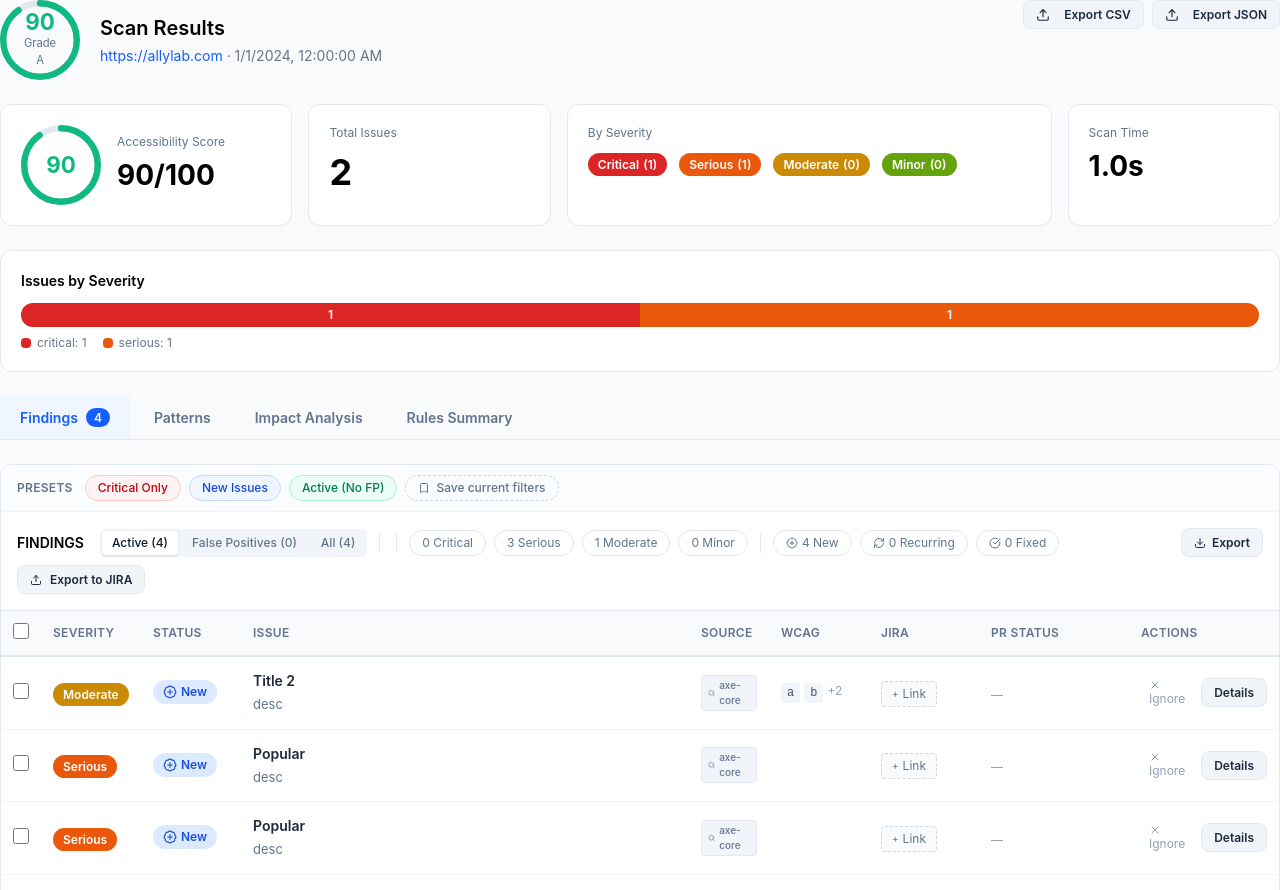
Test case: components/scan/ScanResults › renders rules summary rows with tag overflow
This screenshot has width=1280, height=890.
What coordinates should you click on to do the following:
click the button "Rules Summary"
I would click on:
 (460, 418)
Its box is [387,396,532,439].
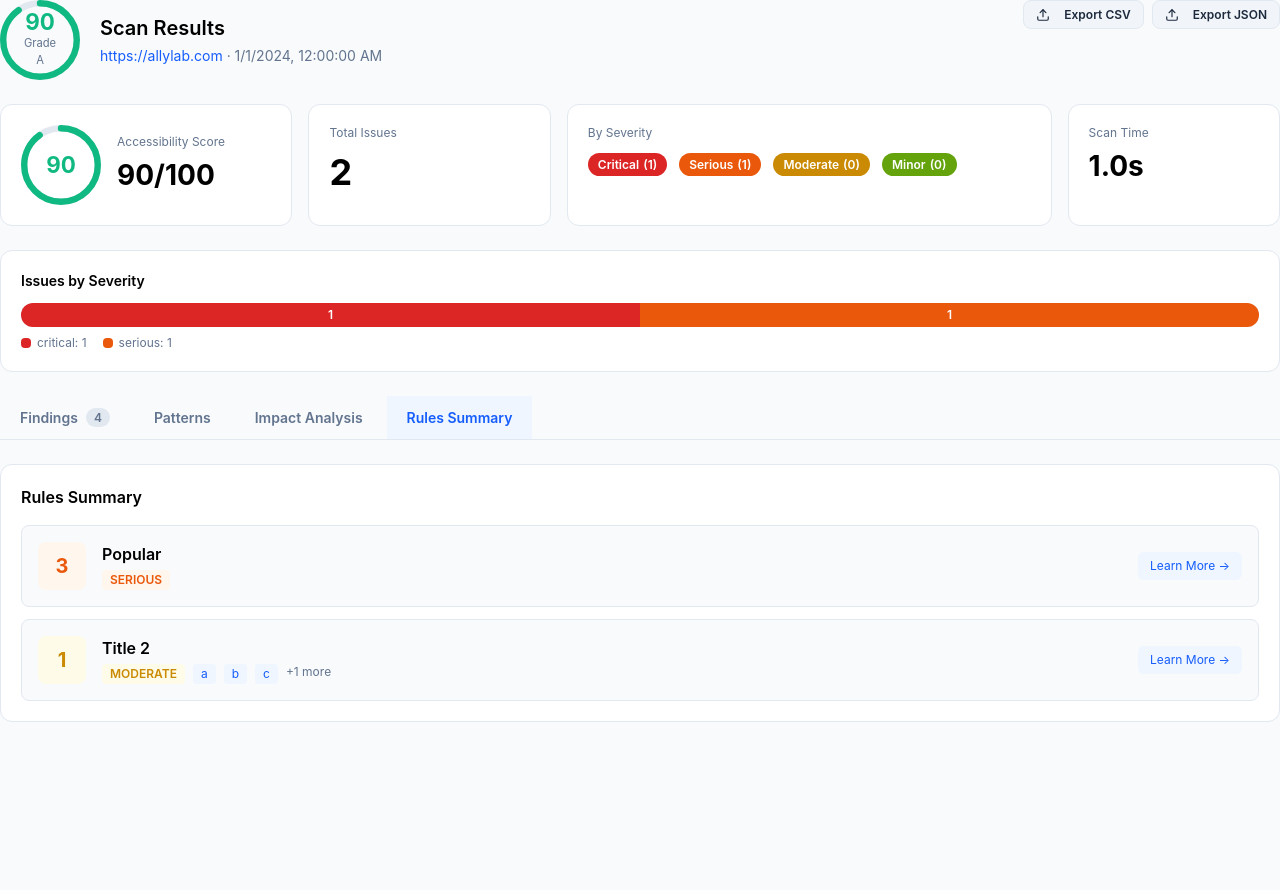
Expected: the text "Popular" is shown, [102,544,162,564]
Expected: the text "+1 more" is shown, [286,664,331,684]
